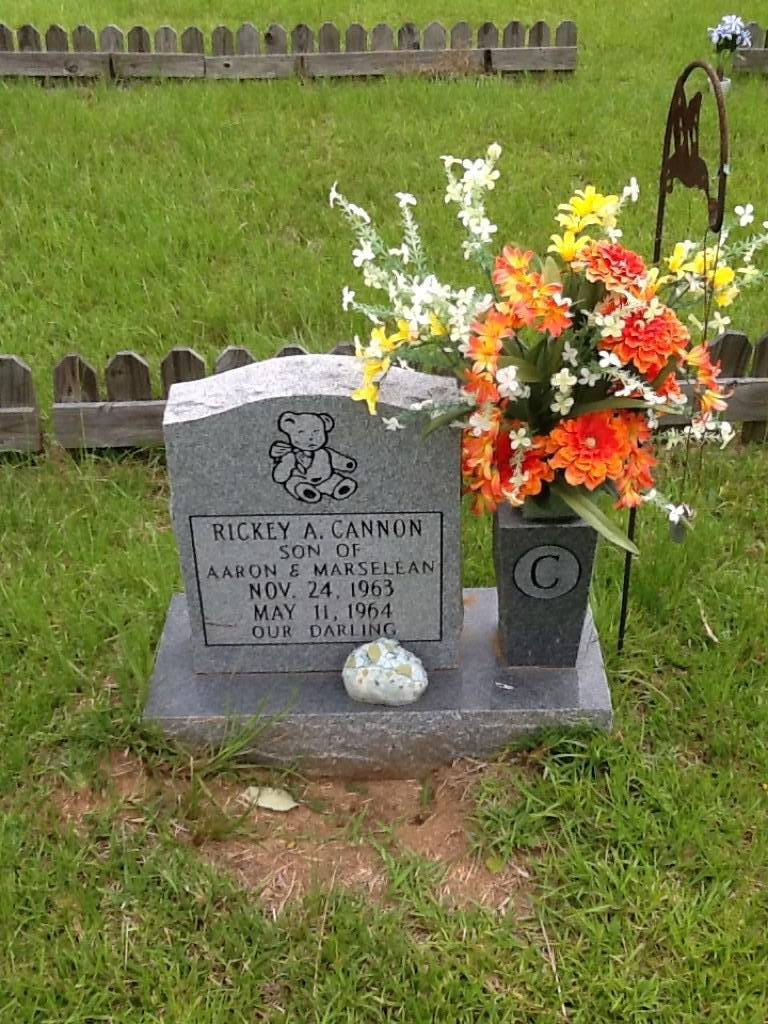upright: (130, 341, 619, 778)
